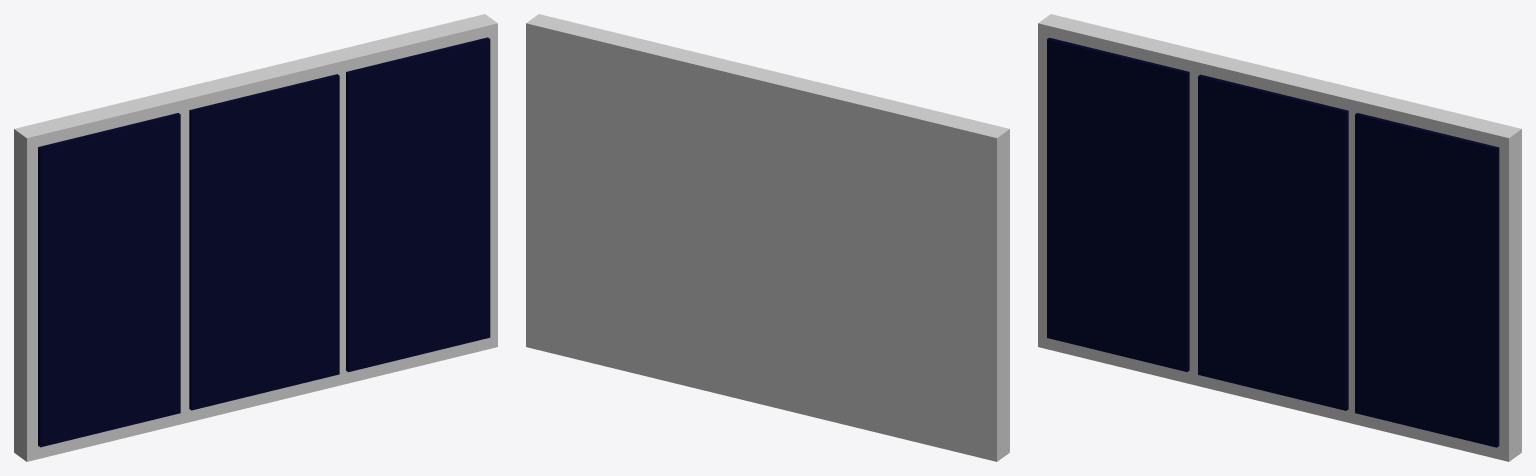
File: Solar.fbx
The picture shows the model from 3 angles, left to right: view 1: azimuth 30°, elevation 25°; view 2: azimuth 150°, elevation 25°; view 3: azimuth 330°, elevation 25°; orthographic projection.
Parts seen in each view (by area): view 1: Cube.001; view 2: Cube.001; view 3: Cube.001.
Boxes of the visible parts, <box> form: Cube.001: <box>14,14,497,461</box>; Cube.001: <box>526,14,1009,461</box>; Cube.001: <box>1038,14,1521,461</box>.
Size of the model in its own units: 472 by 310 by 26.15.
